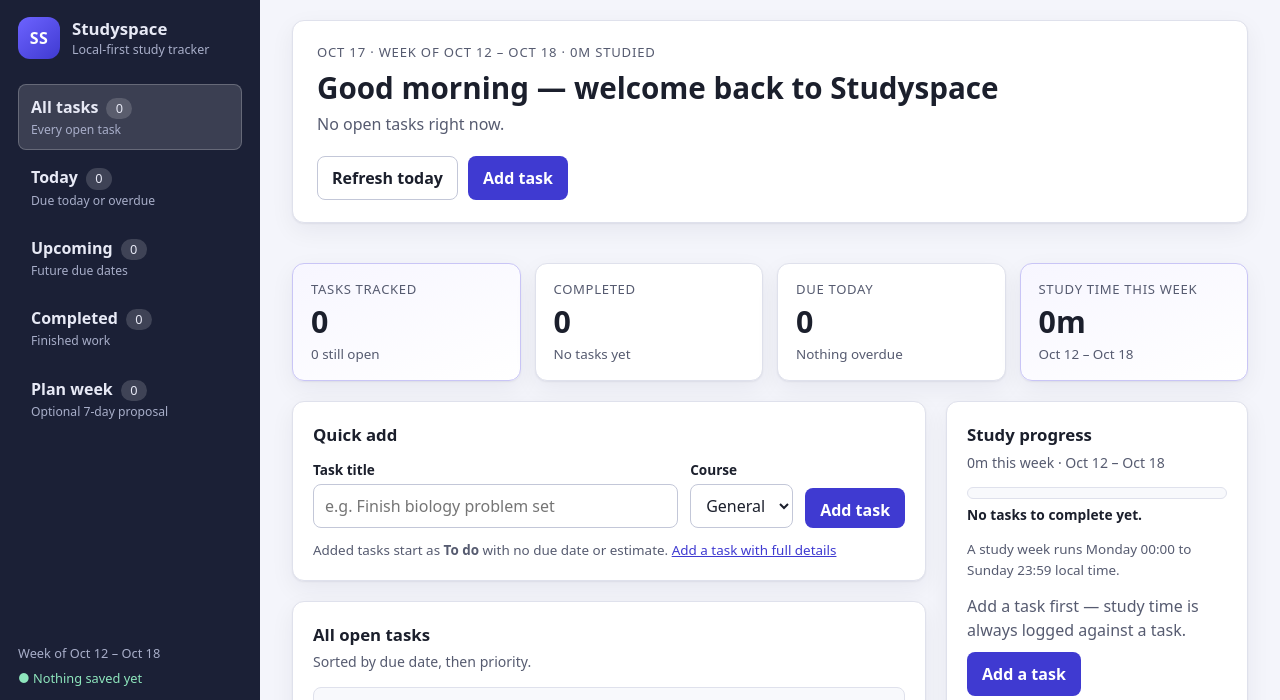
it: Studyspace dashboard workflows › captures a task with quick add and persists it under the versioned key
This screenshot has width=1280, height=700.
In the field labelled "Task title": (496, 506) [313,484,678,528], type "Finish biology problem set"
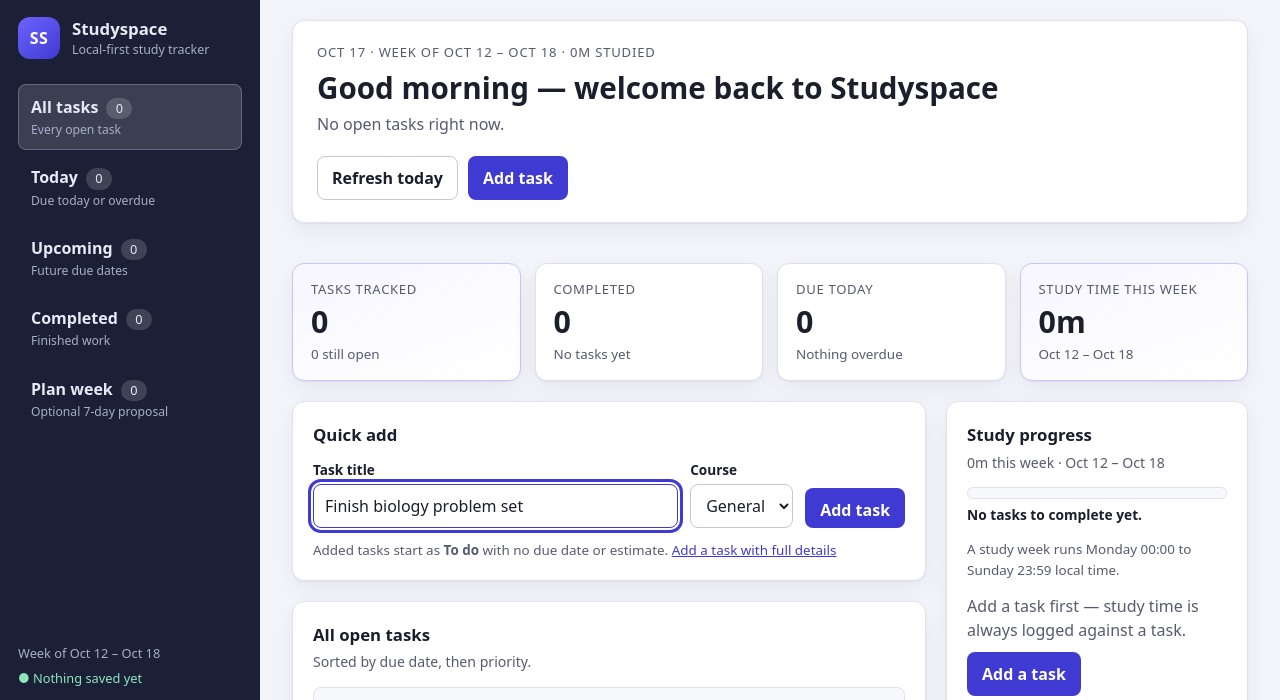
Click the button "Add task" next to "No tasks to complete yet.": (855, 508) [805,488,905,528]
(page scrolled)
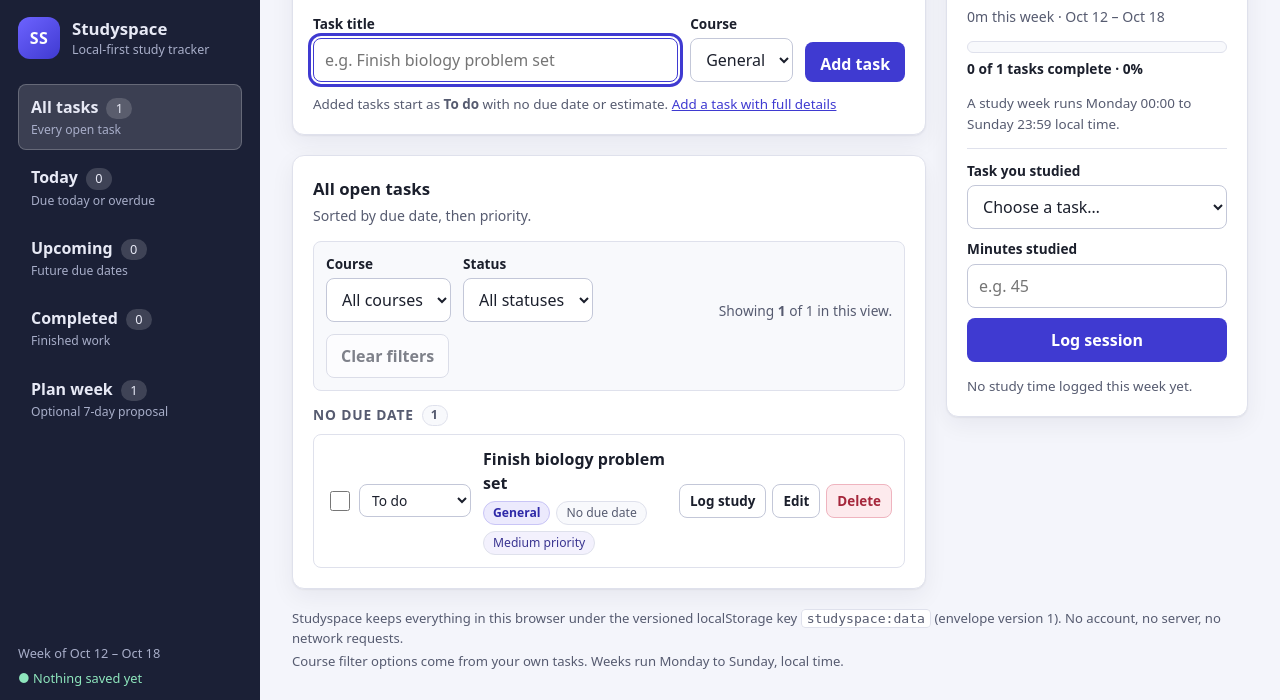
Now the text "Finish biology problem set" is shown, box [483,447,667,495]
